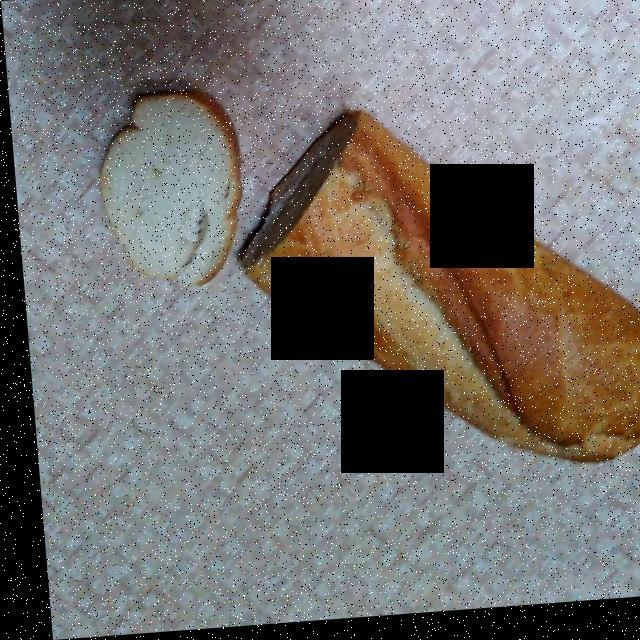bread: (89, 94, 640, 479)
